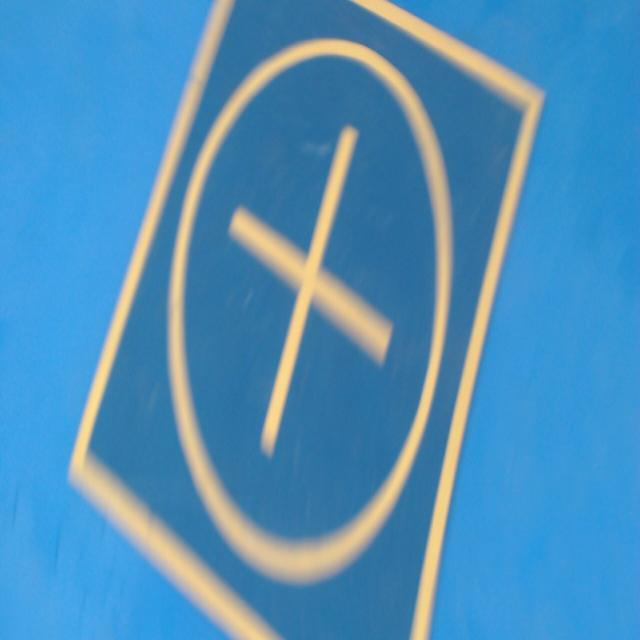base_pouso: (66, 0, 546, 639)
